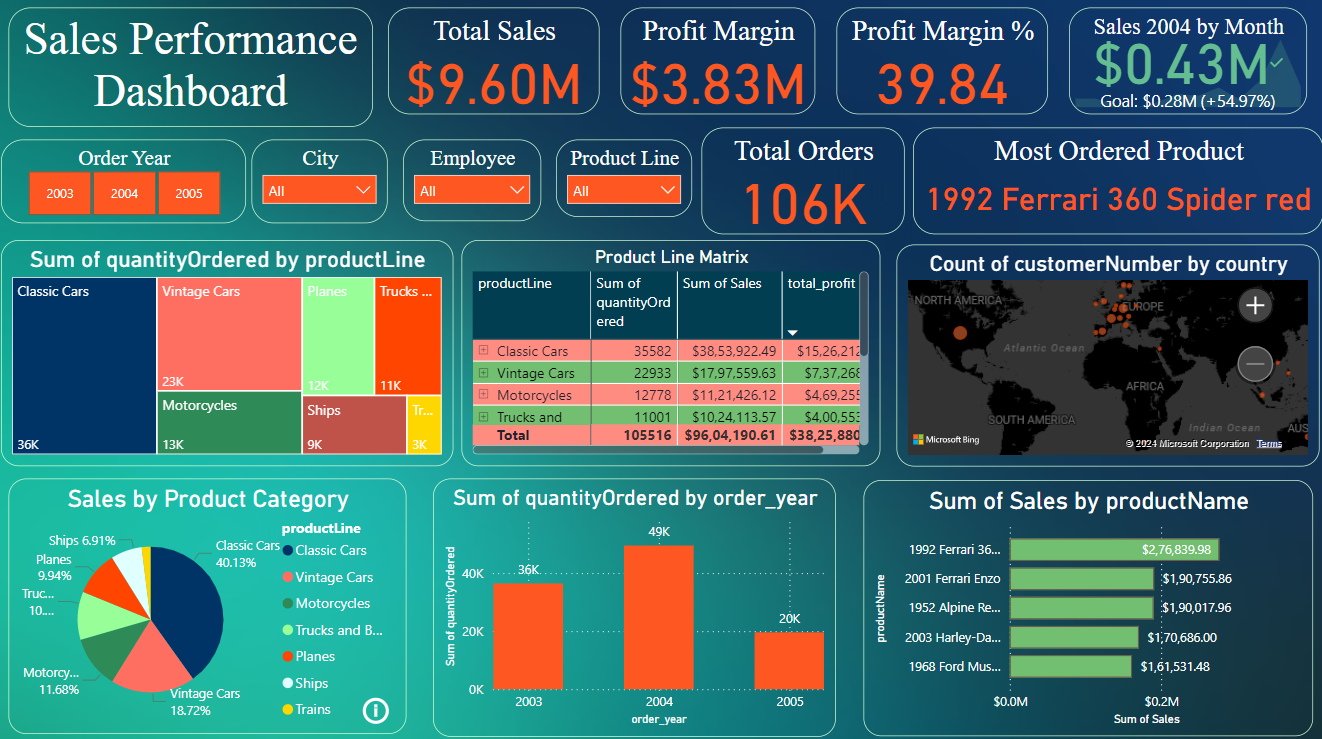

This screenshot's page, from the dashboard's own definition file:
{"tool":"powerbi","page":{"name":"Main Page","canvas":[1280,720],"ordinal":0},"visuals":[{"type":"card","title":"Most Ordered Product","fields":{"Values":["order_details.MostOrderedProduct"]},"box":[880,130,392,102],"z":0},{"type":"barChart","fields":{"Category":["products.productName"],"Y":["order_details.Sales"]},"box":[831.9,467.6,429.5,245],"z":1000},{"type":"pieChart","title":"Sales by Product Category","fields":{"Category":["productlines.productLine"],"Y":["order_details.Sales"]},"box":[16,466,380,244],"z":2000},{"type":"pivotTable","title":"Product Line Matrix","fields":{"Rows":["productlines.productLine","products.productName"],"Values":["order_details.quantityOrdered","order_details.Sales","order_details.total_profit"]},"box":[448,238,400,216],"z":3000},{"type":"slicer","title":"Order Year","fields":{"Values":["orders.order_year"]},"box":[8,142,234,80],"z":4000},{"type":"card","title":"Total Orders","fields":{"Values":["order_details.quantityOrdered"]},"box":[678,130,194,102],"z":5000},{"type":"card","title":"Profit Margin","fields":{"Values":["order_details.total_profit"]},"box":[599.7,15.9,186.1,101.8],"z":6000},{"type":"kpi","title":"Sales 2004 by Month","fields":{"TrendLine":["orders.Month Name"],"Goal":["orders.sales_2003"],"Indicator":["orders.sales_2004"]},"box":[1029.1,15.9,227.5,101.8],"z":7000},{"type":"map","fields":{"Category":["customers.country","customers.city"],"Size":["customers.customerNumber"]},"box":[864,242,404,212],"z":8000},{"type":"treemap","fields":{"Group":["products.productLine"],"Values":["order_details.quantityOrdered"]},"box":[8,238,432,216],"z":9000},{"type":"clusteredColumnChart","fields":{"Category":["orders.order_year"],"Y":["order_details.quantityOrdered"]},"box":[421.5,466,384.9,246.5],"z":10000},{"type":"card","title":"Total Sales","fields":{"Values":["order_details.Sales"]},"box":[378.6,15.9,202,101.8],"z":11000},{"type":"textbox","box":[16,16,348,114],"z":12000},{"type":"card","title":"Profit Margin %","fields":{"Values":["order_details.profit_margin_%"]},"box":[806.4,15.9,202,101.8],"z":13000},{"type":"slicer","title":"City","fields":{"Values":["employees.city"]},"box":[248,142,130,80],"z":14000},{"type":"slicer","title":"Employee","fields":{"Values":["employees.EmpFullName"]},"box":[392,142,132,78],"z":15000},{"type":"slicer","title":"Product Line","fields":{"Values":["products.productLine"]},"box":[538,142,130,74],"z":16000},{"type":"actionButton","box":[349.6,670.9,43.5,34],"z":17000}]}

Visuals, with their boxes in screenshot pixels (x1, y1, x2, y2), scaled from the page's 1280x720 canvas onto the 1322x739 screenshot:
"Most Ordered Product" card: rect(909, 133, 1314, 238)
barChart - products.productName x order_details.Sales: rect(859, 480, 1303, 731)
"Sales by Product Category" pieChart: rect(17, 478, 409, 729)
"Product Line Matrix" pivotTable: rect(463, 244, 876, 466)
"Order Year" slicer: rect(8, 146, 250, 228)
"Total Orders" card: rect(700, 133, 901, 238)
"Profit Margin" card: rect(619, 16, 812, 121)
"Sales 2004 by Month" kpi: rect(1063, 16, 1298, 121)
map - customers.country x customers.city: rect(892, 248, 1310, 466)
treemap - products.productLine x order_details.quantityOrdered: rect(8, 244, 454, 466)
clusteredColumnChart - orders.order_year x order_details.quantityOrdered: rect(435, 478, 833, 731)
"Total Sales" card: rect(391, 16, 600, 121)
textbox: rect(17, 16, 376, 133)
"Profit Margin %" card: rect(833, 16, 1041, 121)
"City" slicer: rect(256, 146, 390, 228)
"Employee" slicer: rect(405, 146, 541, 226)
"Product Line" slicer: rect(556, 146, 690, 222)
actionButton: rect(361, 689, 406, 724)
